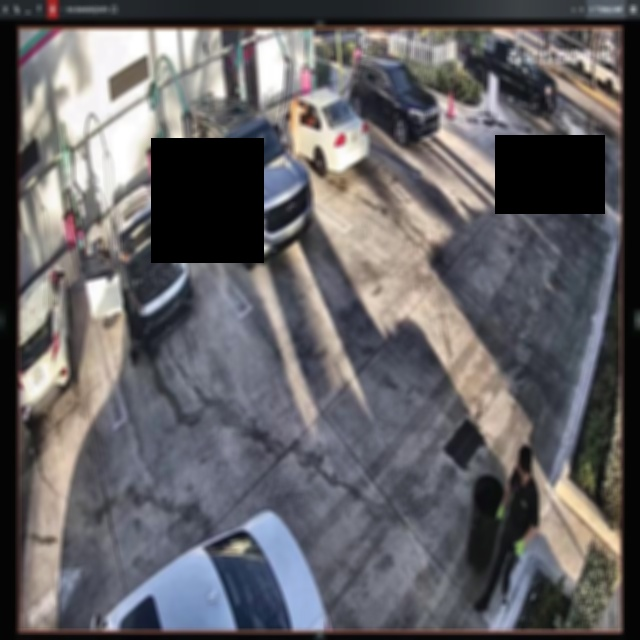Car: (189, 97, 310, 268), (85, 170, 201, 342), (348, 54, 438, 147), (271, 90, 369, 172)
